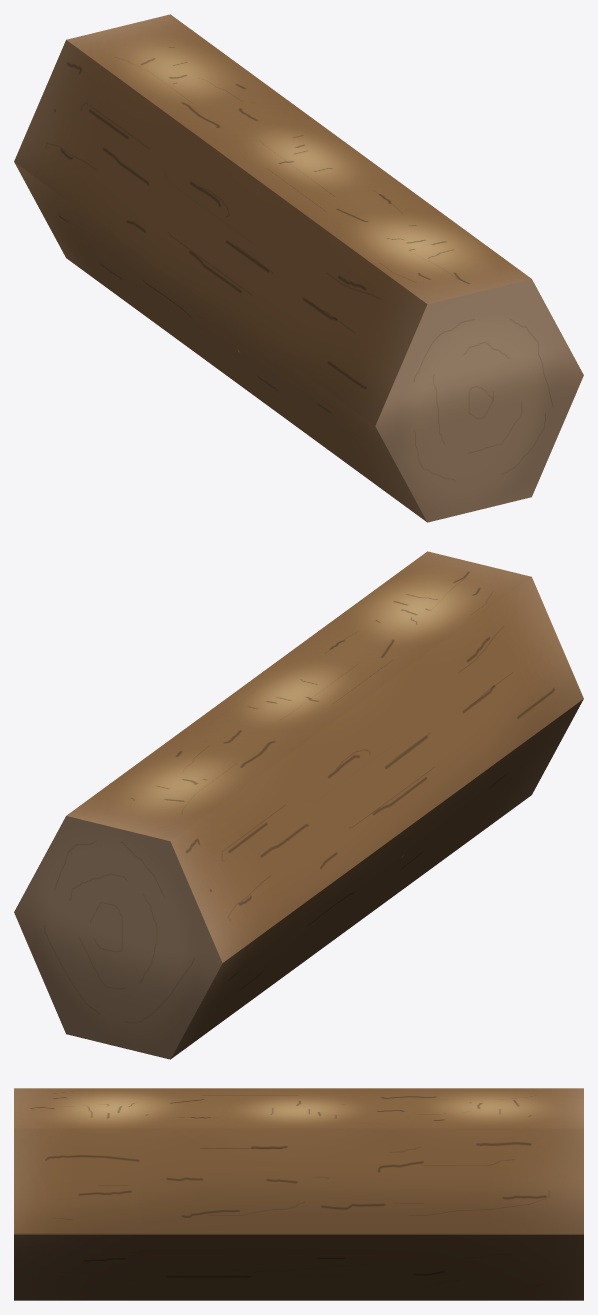
File: Log.glb
The picture shows the model from 3 angles, top to bottom: view 1: azimuth 30°, elevation 25°; view 2: azimuth 150°, elevation 25°; view 3: azimuth 270°, elevation 25°; orthographic projection. The views are drawn at different scales.
Visible parts, largest first — view 1: Cylinder; view 2: Cylinder; view 3: Cylinder.
Part boxes in pixels (x1,y1,x2,y2): Cylinder: (14, 14, 583, 522); Cylinder: (14, 551, 583, 1059); Cylinder: (14, 1088, 583, 1300).
Size of the model in its own units: 1 by 1 by 3.
Materials: 1 (1 with a texture image).
